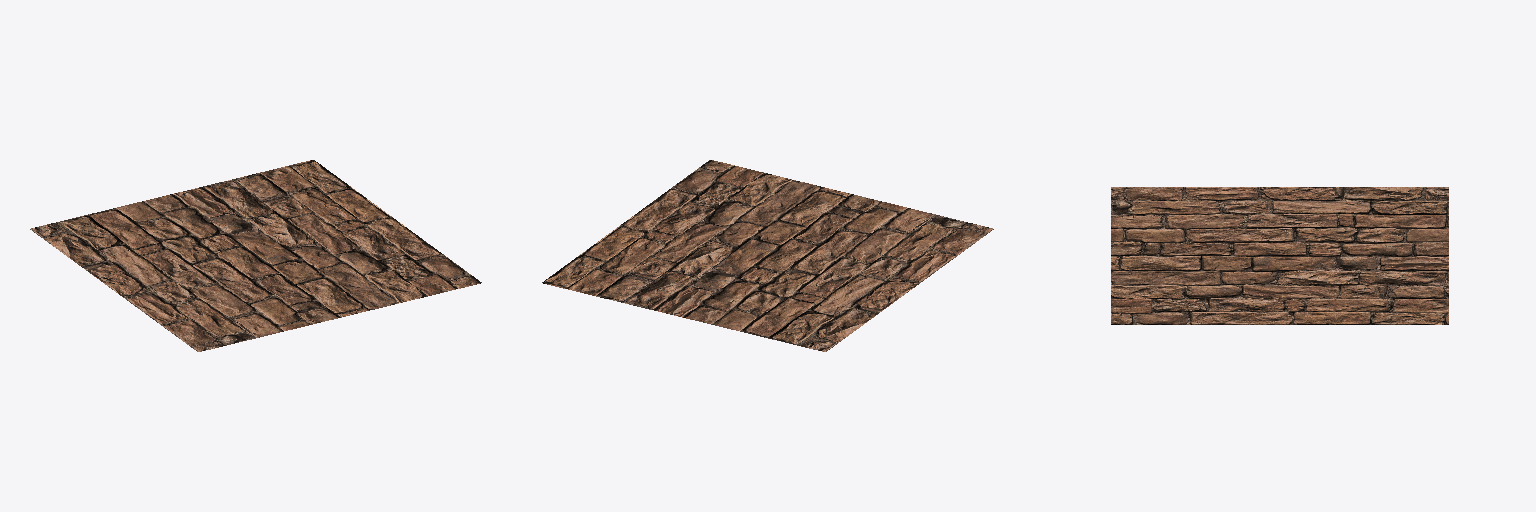
3 views of the same model, side by side, from view 1: azimuth 30°, elevation 25°; view 2: azimuth 150°, elevation 25°; view 3: azimuth 270°, elevation 25° (orthographic).
Parts seen in each view (by area): view 1: Plane.001_Plane.002; view 2: Plane.001_Plane.002; view 3: Plane.001_Plane.002.
Boxes of the visible parts, x1,y1,x2,y2 form: Plane.001_Plane.002: [30, 160, 481, 351]; Plane.001_Plane.002: [542, 160, 993, 351]; Plane.001_Plane.002: [1111, 187, 1448, 324].
Size of the model in its own units: 2.78 by 0 by 2.86.
1 materials, 1 textured.